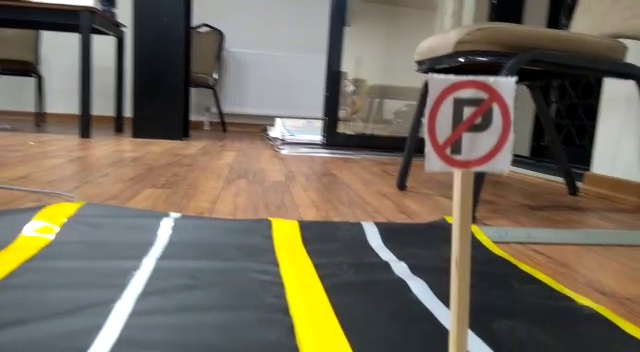park_yapilmaz: (425, 77, 510, 176)
